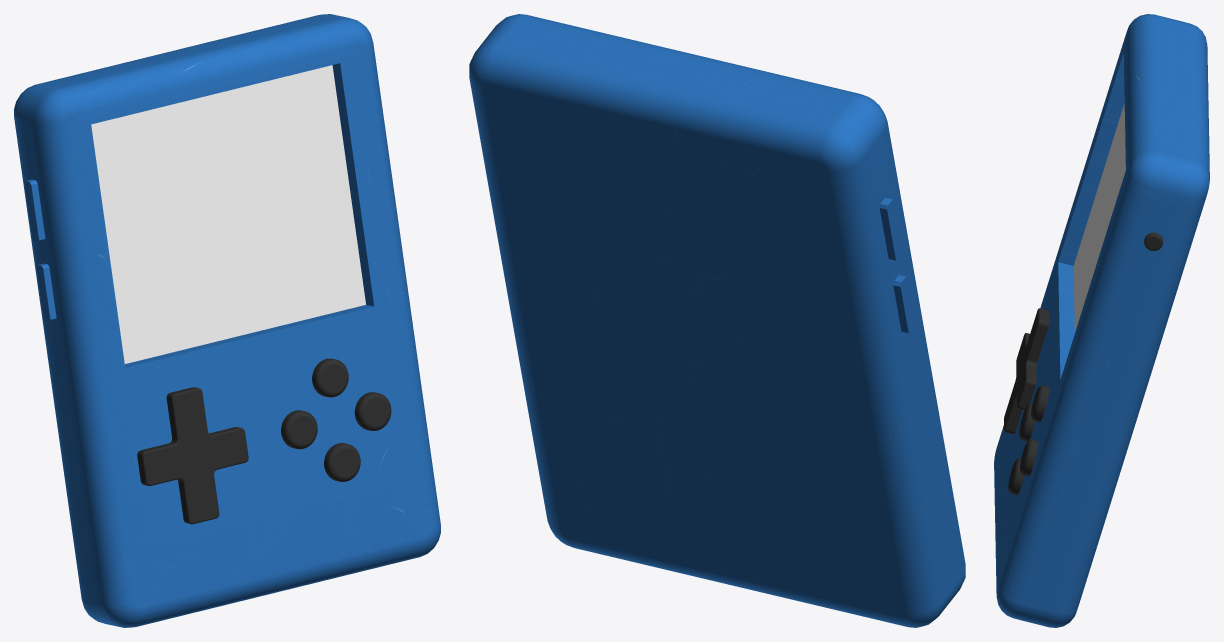
Rendered from console.glb.
The picture shows the model from 3 angles, left to right: view 1: azimuth 30°, elevation 25°; view 2: azimuth 150°, elevation 25°; view 3: azimuth 270°, elevation 25°; orthographic projection. The views are drawn at different scales.
Parts seen in each view (by area): view 1: pasted__pCube1, pCube15, pCube13, pCube4, pCube6, pCube2, pCube5; view 2: pasted__pCube1; view 3: pasted__pCube1, pCube15, pCube13, pCube2, pCube4, pCube6, pCube5.
Part boxes in pixels (x1,y1,x2,y2): pasted__pCube1: (14, 14, 440, 627); pCube15: (91, 65, 365, 363); pCube13: (137, 387, 248, 524); pCube4: (312, 358, 348, 397); pCube6: (281, 410, 317, 449); pCube2: (354, 392, 391, 430); pCube5: (324, 443, 360, 481); pasted__pCube1: (469, 14, 965, 627); pasted__pCube1: (994, 14, 1209, 627); pCube15: (1073, 103, 1125, 332); pCube13: (1004, 308, 1049, 434); pCube2: (1020, 439, 1038, 476); pCube4: (1031, 385, 1049, 422); pCube6: (1019, 404, 1035, 441); pCube5: (1008, 458, 1024, 495).
Size of the model in its own units: 0.6017 by 0.8186 by 0.3369.
3 materials, 1 textured.
